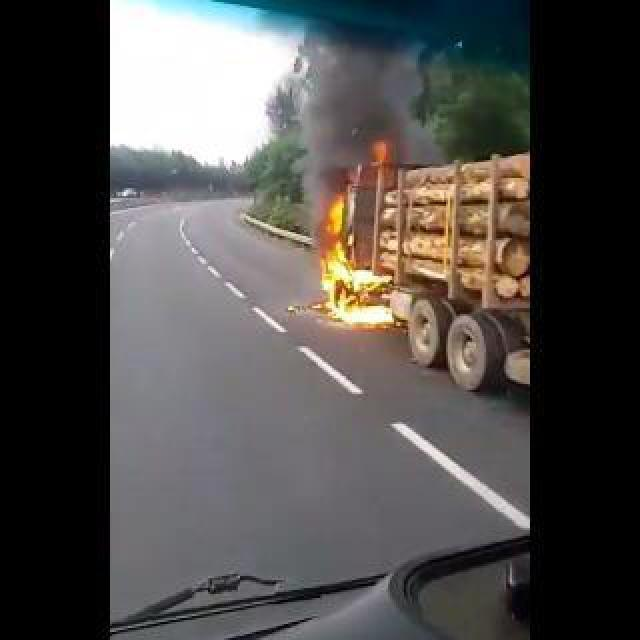Fire: (314, 200, 390, 326), (372, 140, 390, 164)
Smoke: (282, 18, 418, 190)
